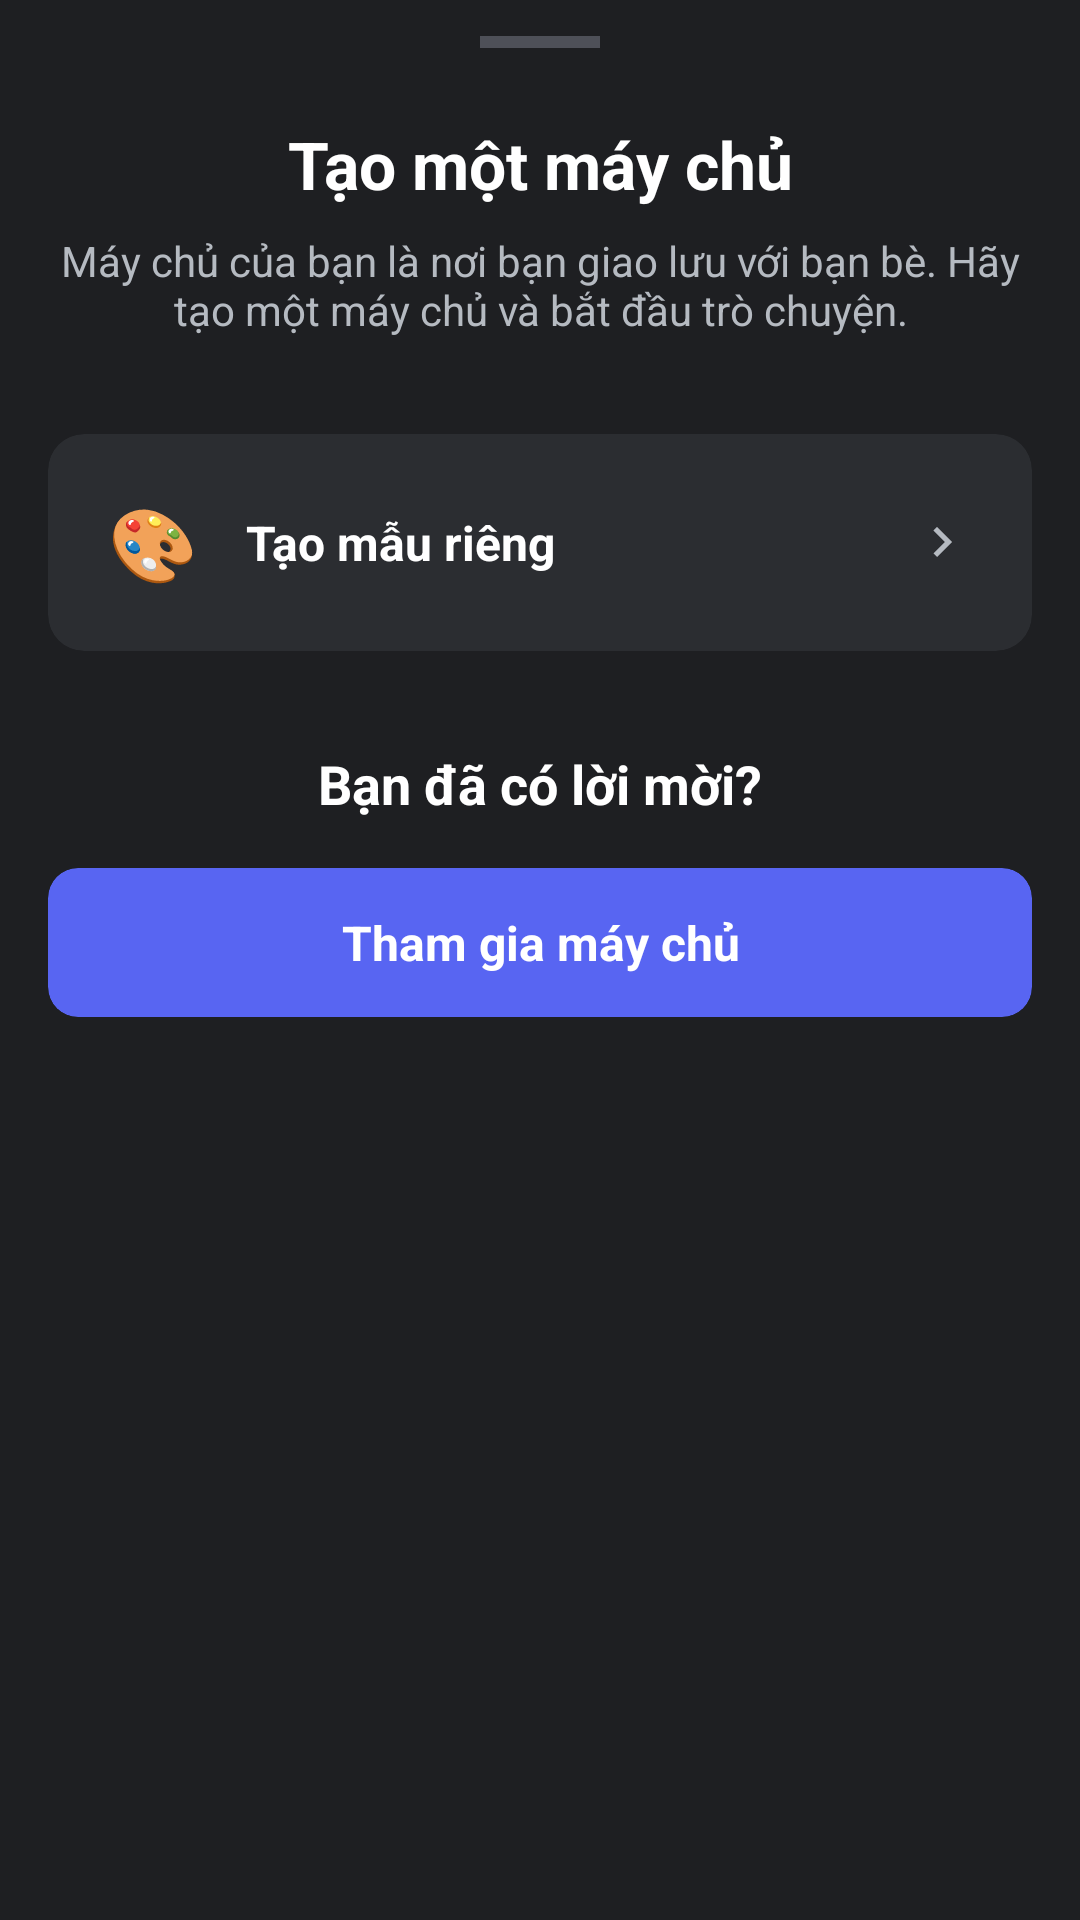

Locate icon controls on the screen. Image size 1080×1920, boxes as box=[x1, y1, x2, y2].
chevron right: box=[933, 527, 952, 557]
